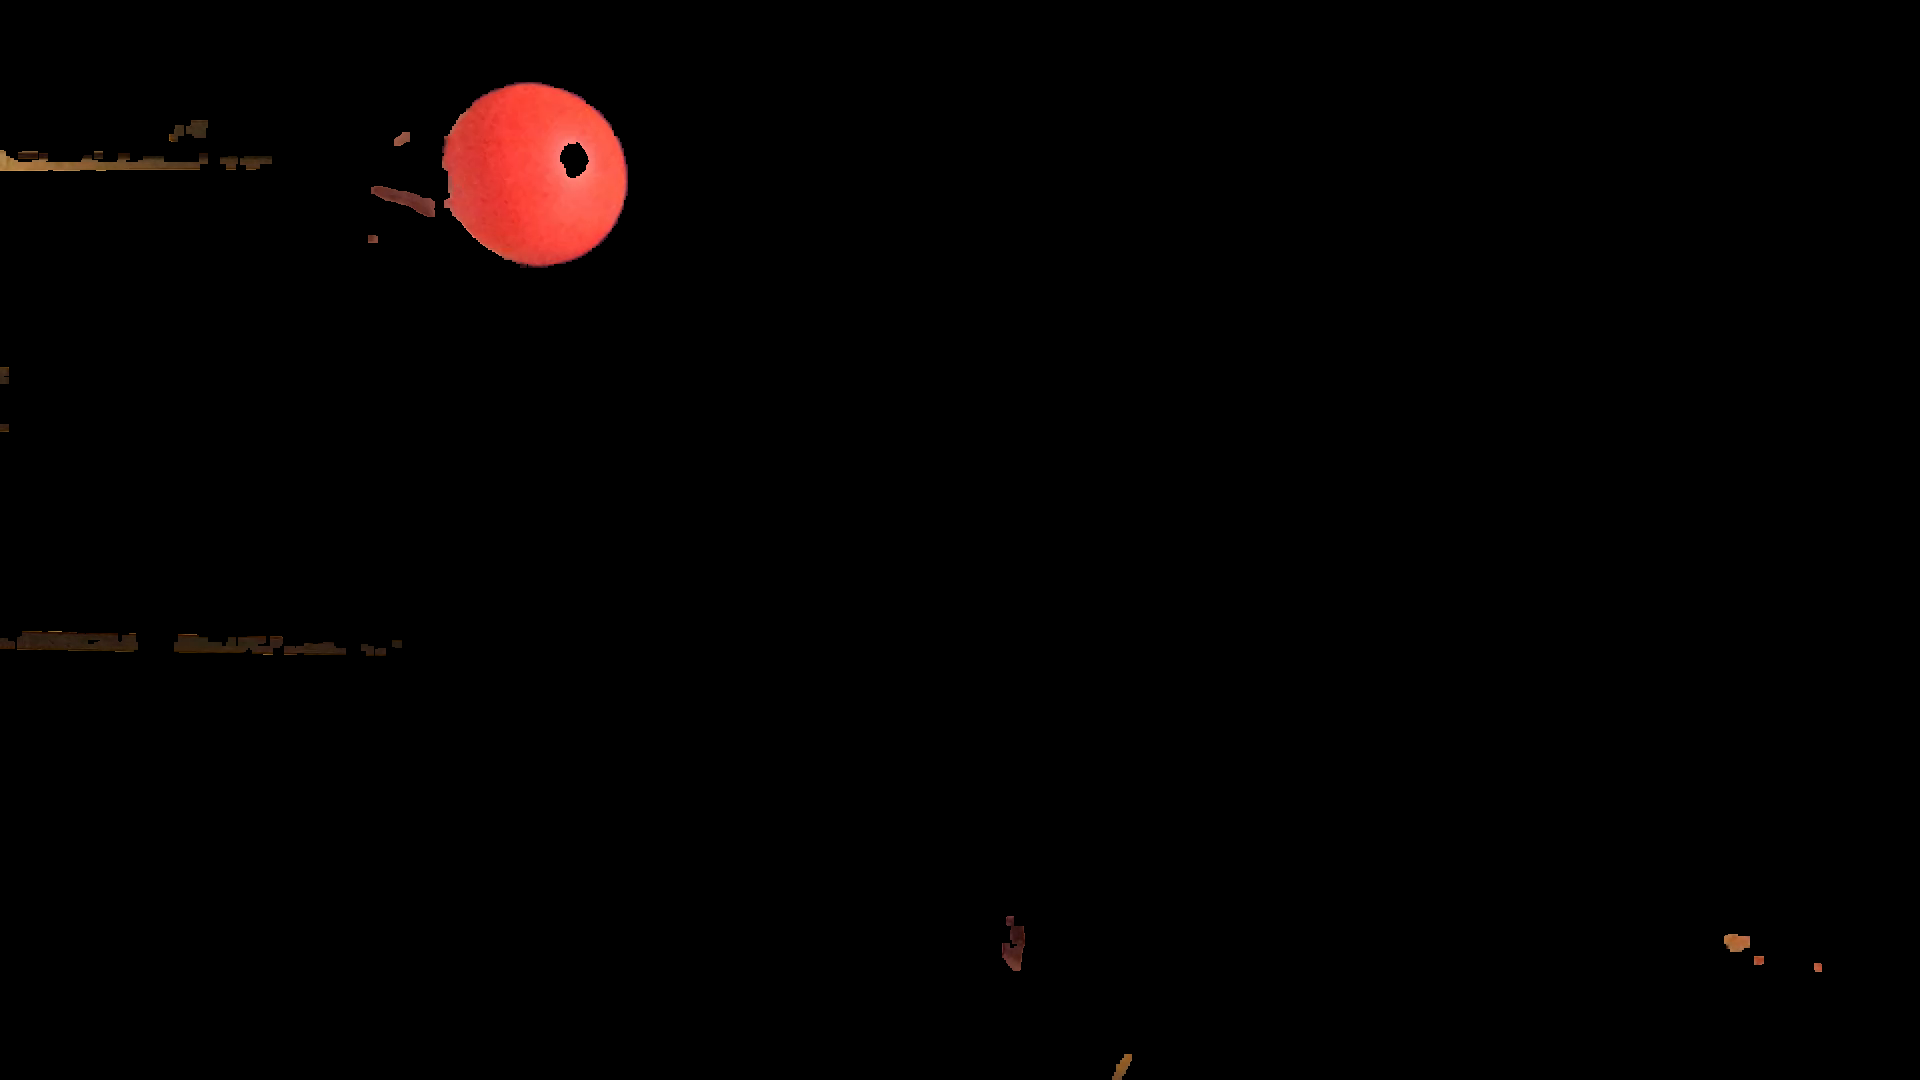Ball: (446, 76, 629, 272)
